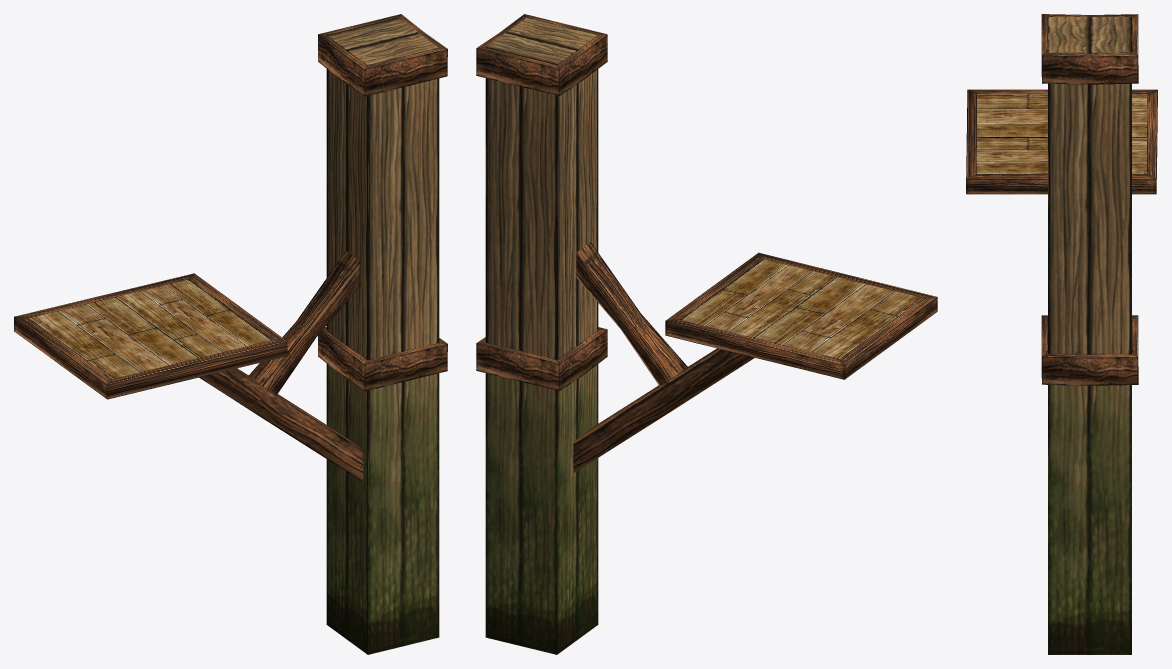
File: LAKETOWN_WAREHOUSE2_PS_WH2_MILL_BASE99438__GX.fbx
3 views of the same model, side by side, from view 1: azimuth 30°, elevation 25°; view 2: azimuth 150°, elevation 25°; view 3: azimuth 270°, elevation 25° (orthographic). The views are drawn at different scales.
Visible parts, largest first — view 1: LAKETOWN_WAREHOUSE2_PS_WH2_MILL_BASE99438__GX; view 2: LAKETOWN_WAREHOUSE2_PS_WH2_MILL_BASE99438__GX; view 3: LAKETOWN_WAREHOUSE2_PS_WH2_MILL_BASE99438__GX.
Boxes of the visible parts, x1,y1,x2,y2 form: LAKETOWN_WAREHOUSE2_PS_WH2_MILL_BASE99438__GX: (14,14,447,654); LAKETOWN_WAREHOUSE2_PS_WH2_MILL_BASE99438__GX: (476,14,937,654); LAKETOWN_WAREHOUSE2_PS_WH2_MILL_BASE99438__GX: (966,14,1157,654).
Size of the model in its own units: 52998 by 79094 by 22811.
4 materials, 4 textured.
